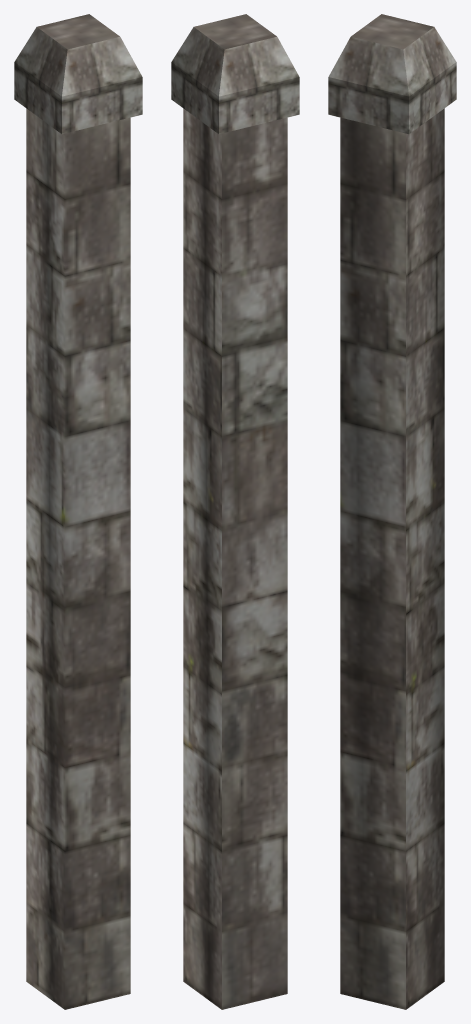
The model's file is pillar_top_lg.glb.
3 renders of one model, left to right at view 1: azimuth 30°, elevation 25°; view 2: azimuth 210°, elevation 25°; view 3: azimuth 330°, elevation 25°, orthographic.
Visible parts, largest first — view 1: pillar_top_lg; view 2: pillar_top_lg; view 3: pillar_top_lg.
Part boxes in pixels (x1,y1,x2,y2): pillar_top_lg: [14, 14, 142, 1009]; pillar_top_lg: [171, 14, 299, 1009]; pillar_top_lg: [328, 14, 456, 1009].
Bounding box in the file's own units: 0.7564 × 8.57 × 0.7703.
Materials: 1 (1 with a texture image).
